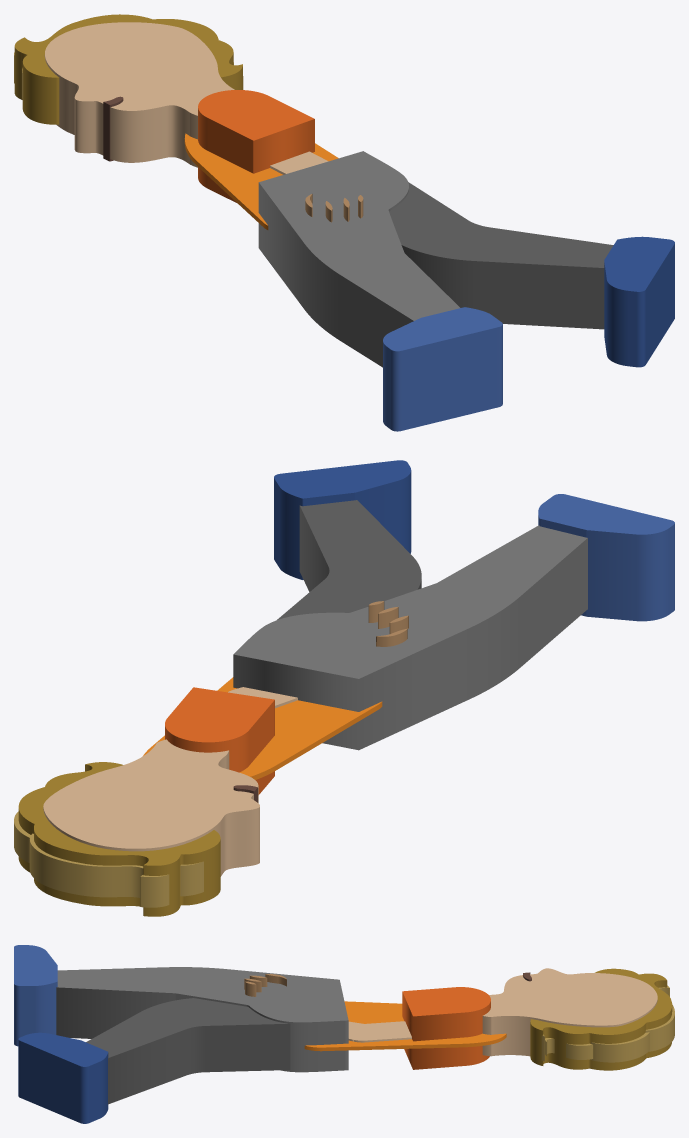
Rendered from emoji_u1f6b6_1f3fc.glb.
3 renders of one model, top to bottom at view 1: azimuth 30°, elevation 25°; view 2: azimuth 150°, elevation 25°; view 3: azimuth 270°, elevation 25°, orthographic. The views are drawn at different scales.
Visible parts, largest first — view 1: emoji_u1f6b6_1f3fc; view 2: emoji_u1f6b6_1f3fc; view 3: emoji_u1f6b6_1f3fc.
Part boxes in pixels (left/top/right/bottom): emoji_u1f6b6_1f3fc: left=14, top=14, right=674, bottom=431; emoji_u1f6b6_1f3fc: left=14, top=460, right=674, bottom=916; emoji_u1f6b6_1f3fc: left=14, top=945, right=674, bottom=1123.
Size of the model in its own units: 0.0145 by 0.0042 by 0.0336.
